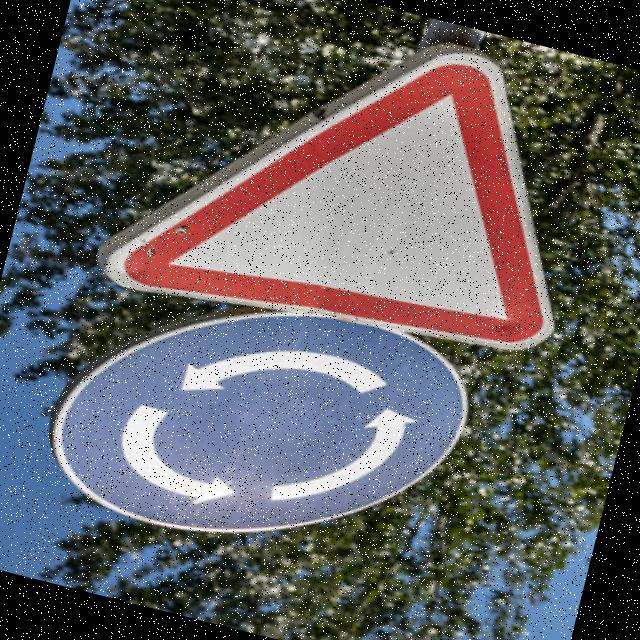give_way: (85, 0, 626, 395)
